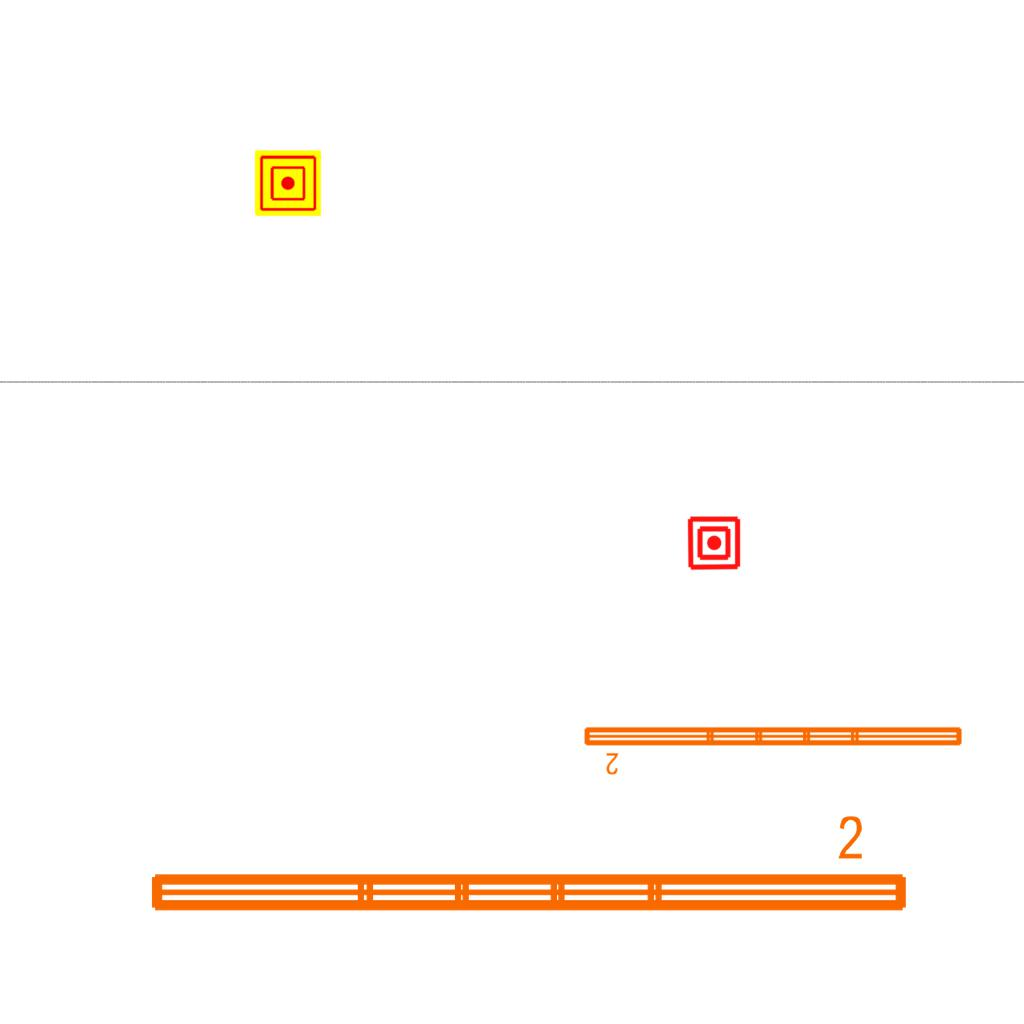Ambulanz_Pendelleuchte_LED: (141, 811, 915, 923), (580, 721, 967, 777)
NAM-Nichtautomatischer_Melder: (255, 150, 321, 216), (686, 515, 742, 571)
